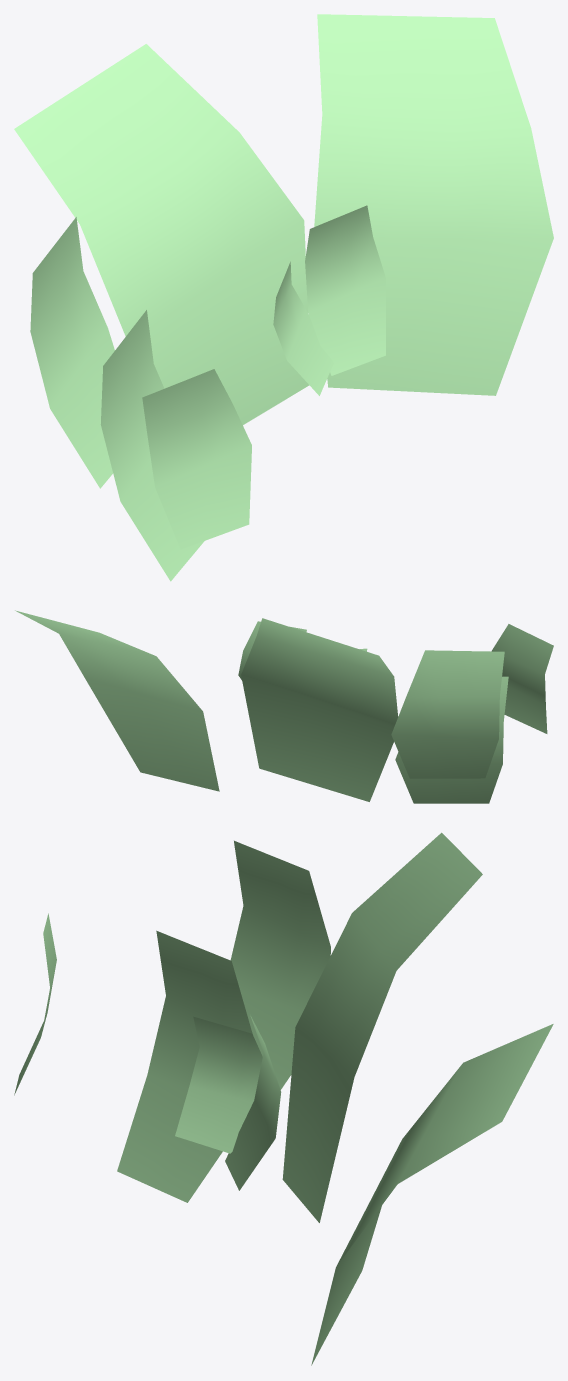
The model's file is sm_2dplants_03.gltf.
3 renders of one model, top to bottom at view 1: azimuth 30°, elevation 25°; view 2: azimuth 150°, elevation 25°; view 3: azimuth 270°, elevation 25°, orthographic. The views are drawn at different scales.
Visible parts, largest first — view 1: sm_2dplants_03; view 2: sm_2dplants_03; view 3: sm_2dplants_03.
Part boxes in pixels (x1,y1,x2,y2): sm_2dplants_03: (14,14,553,581); sm_2dplants_03: (15,610,553,803); sm_2dplants_03: (14,832,553,1365).
Size of the model in its own units: 1.58 by 0.9363 by 1.22.
